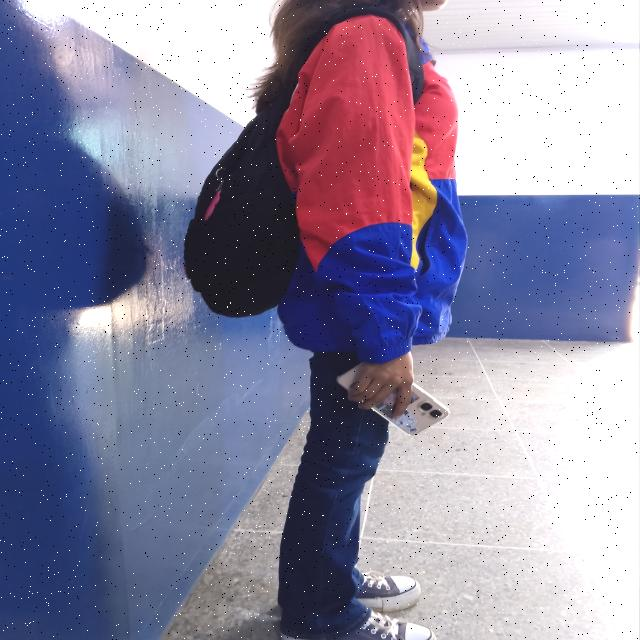chaqueta_unefa: (273, 13, 472, 360)
pantalon_oscuro: (274, 354, 390, 640)
